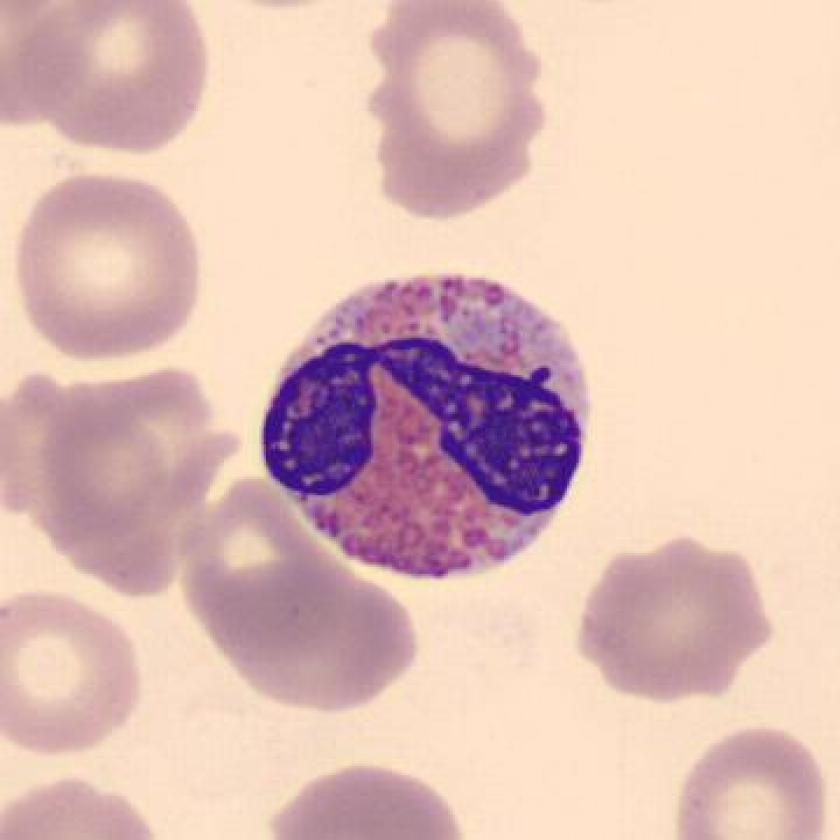eosinophil: (251, 258, 608, 591)
